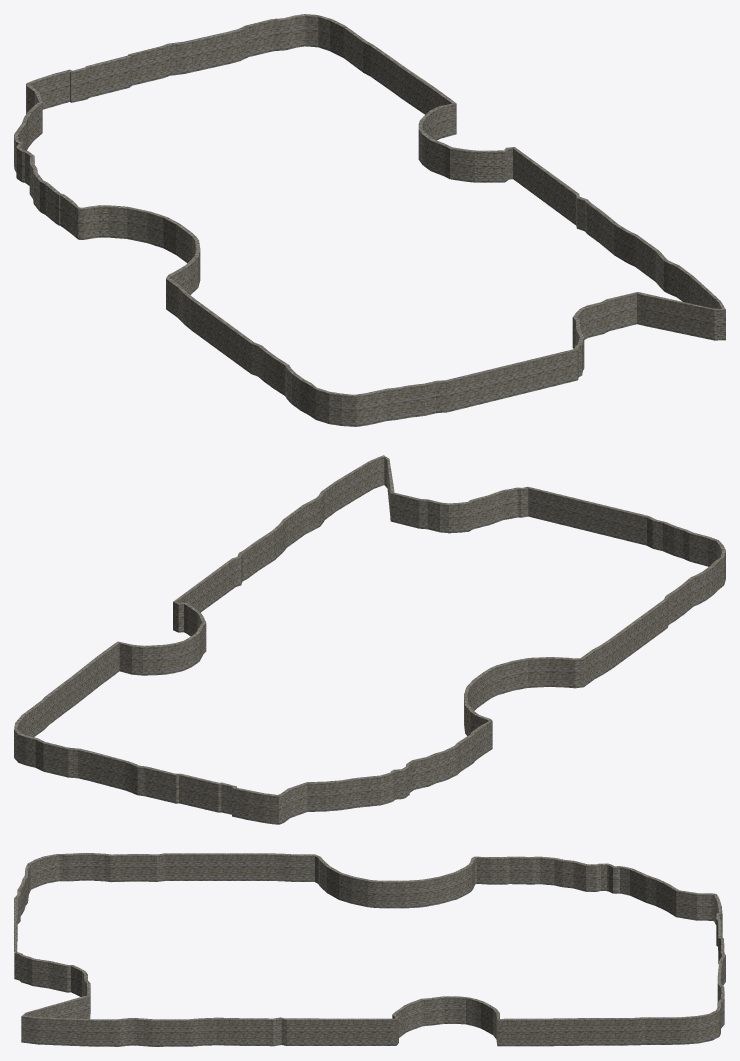
File: OuterEdge_LevelB_V2.fbx
3 renders of one model, top to bottom at view 1: azimuth 30°, elevation 25°; view 2: azimuth 150°, elevation 25°; view 3: azimuth 270°, elevation 25°, orthographic. The views are drawn at different scales.
Parts seen in each view (by area): view 1: OuterEdge; view 2: OuterEdge; view 3: OuterEdge.
Part boxes in pixels (x1,y1,x2,y2): OuterEdge: (14, 14, 725, 426); OuterEdge: (14, 455, 725, 824); OuterEdge: (14, 853, 725, 1046).
Bounding box in the file's own units: 5494 × 400 × 9865.
1 material, 1 textured.
